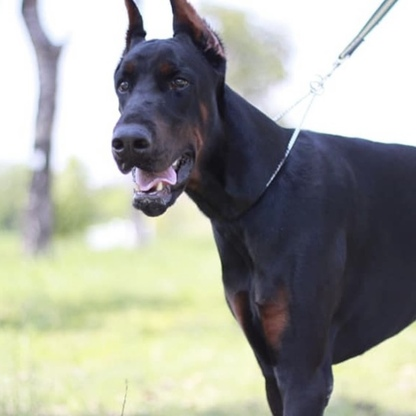doberman: (107, 1, 415, 413)
